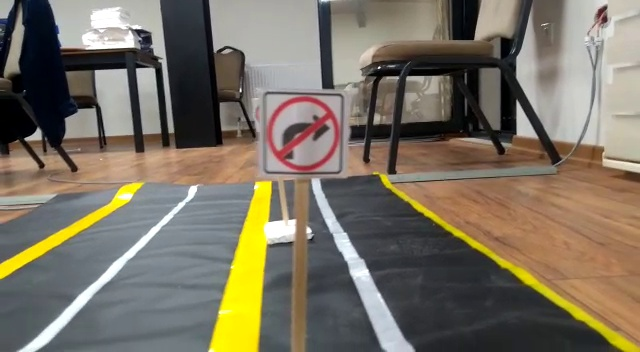saga_donulmez: (261, 95, 344, 175)
